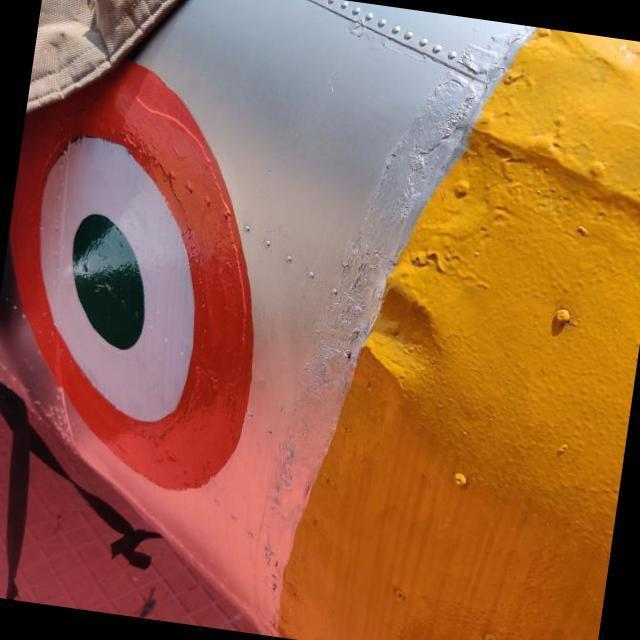Dent: (314, 253, 480, 426)
